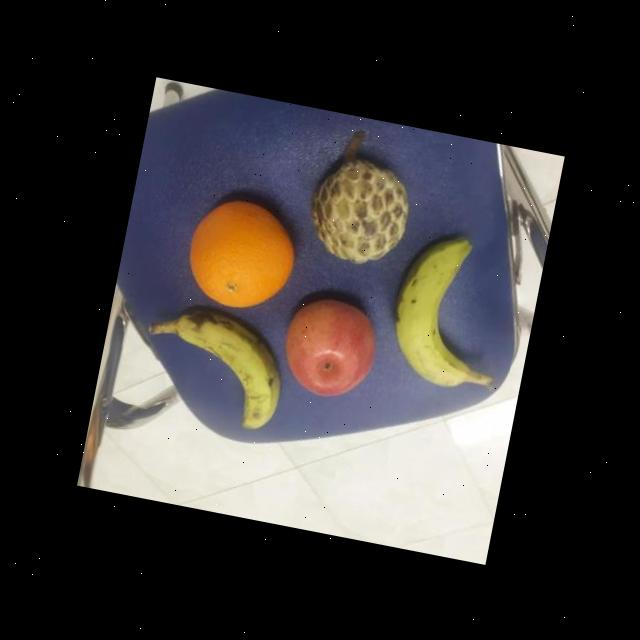Sakya fruit: (301, 153, 418, 272)
apple: (274, 290, 388, 406)
banana: (376, 222, 498, 391), (157, 300, 294, 435)
orange: (176, 188, 303, 318)
